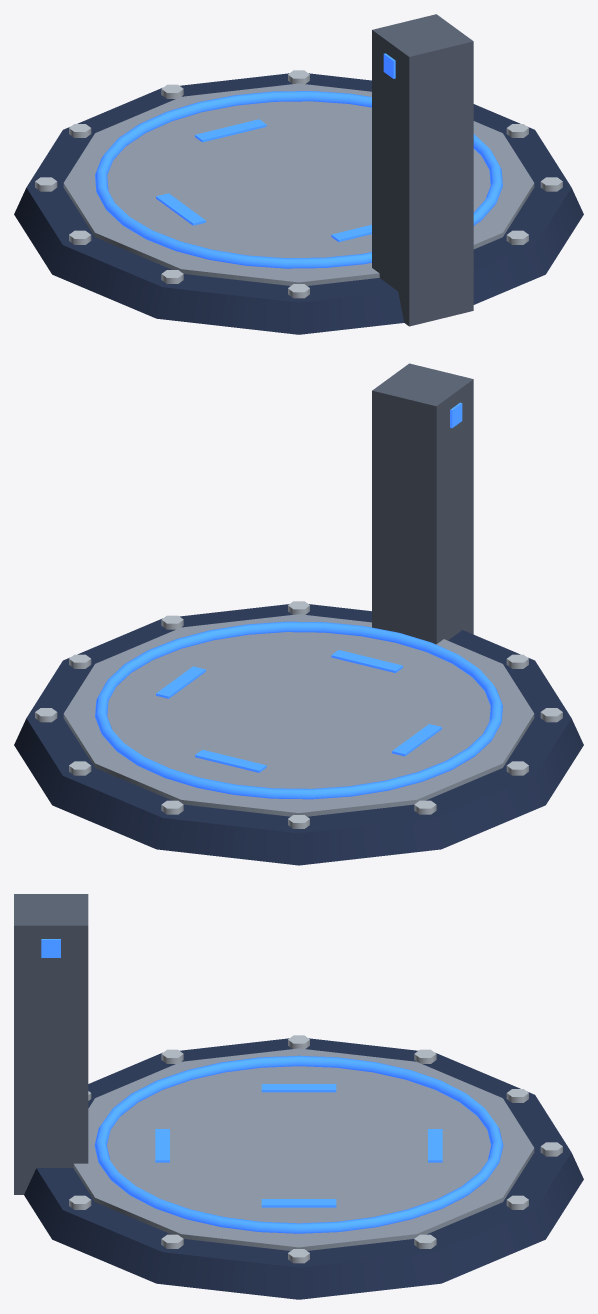
File: socket_wall_empty.glb
3 renders of one model, top to bottom at view 1: azimuth 30°, elevation 25°; view 2: azimuth 150°, elevation 25°; view 3: azimuth 270°, elevation 25°, orthographic.
Visible parts, largest first — view 1: socket_wall_empty_inlay, socket_wall_empty_plate, socket_wall_empty_stanchion, socket_wall_empty_ring, socket_wall_empty_bolts, socket_wall_empty_tick3, socket_wall_empty_tick2; view 2: socket_wall_empty_inlay, socket_wall_empty_plate, socket_wall_empty_stanchion, socket_wall_empty_ring, socket_wall_empty_bolts, socket_wall_empty_tick1, socket_wall_empty_tick3; view 3: socket_wall_empty_inlay, socket_wall_empty_plate, socket_wall_empty_stanchion, socket_wall_empty_ring, socket_wall_empty_bolts, socket_wall_empty_tick0, socket_wall_empty_tick2.
Boxes of the visible parts, left/top/right/bottom form: socket_wall_empty_inlay: left=63, top=83, right=534, bottom=285; socket_wall_empty_plate: left=14, top=73, right=583, bottom=334; socket_wall_empty_stanchion: left=372, top=14, right=473, bottom=326; socket_wall_empty_ring: left=95, top=91, right=502, bottom=268; socket_wall_empty_bolts: left=35, top=70, right=562, bottom=298; socket_wall_empty_tick3: left=195, top=119, right=266, bottom=142; socket_wall_empty_tick2: left=156, top=193, right=205, bottom=225; socket_wall_empty_inlay: left=63, top=614, right=534, bottom=816; socket_wall_empty_plate: left=14, top=604, right=583, bottom=865; socket_wall_empty_stanchion: left=372, top=363, right=473, bottom=644; socket_wall_empty_ring: left=95, top=621, right=502, bottom=799; socket_wall_empty_bolts: left=35, top=601, right=562, bottom=828; socket_wall_empty_tick1: left=331, top=650, right=402, bottom=672; socket_wall_empty_tick3: left=195, top=749, right=266, bottom=772; socket_wall_empty_inlay: left=73, top=1048, right=534, bottom=1250; socket_wall_empty_plate: left=24, top=1038, right=583, bottom=1299; socket_wall_empty_stanchion: left=14, top=894, right=88, bottom=1194; socket_wall_empty_ring: left=94, top=1055, right=503, bottom=1233; socket_wall_empty_bolts: left=69, top=1035, right=562, bottom=1263; socket_wall_empty_tick0: left=261, top=1199, right=336, bottom=1207; socket_wall_empty_tick2: left=261, top=1084, right=336, bottom=1092.
Size of the model in its own units: 2.3 by 1.2 by 2.3.
